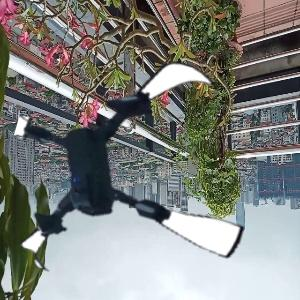drone: (9, 50, 259, 300)
